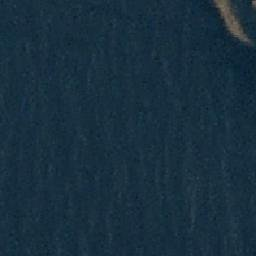debris: (217, 1, 237, 24), (228, 24, 251, 41)
